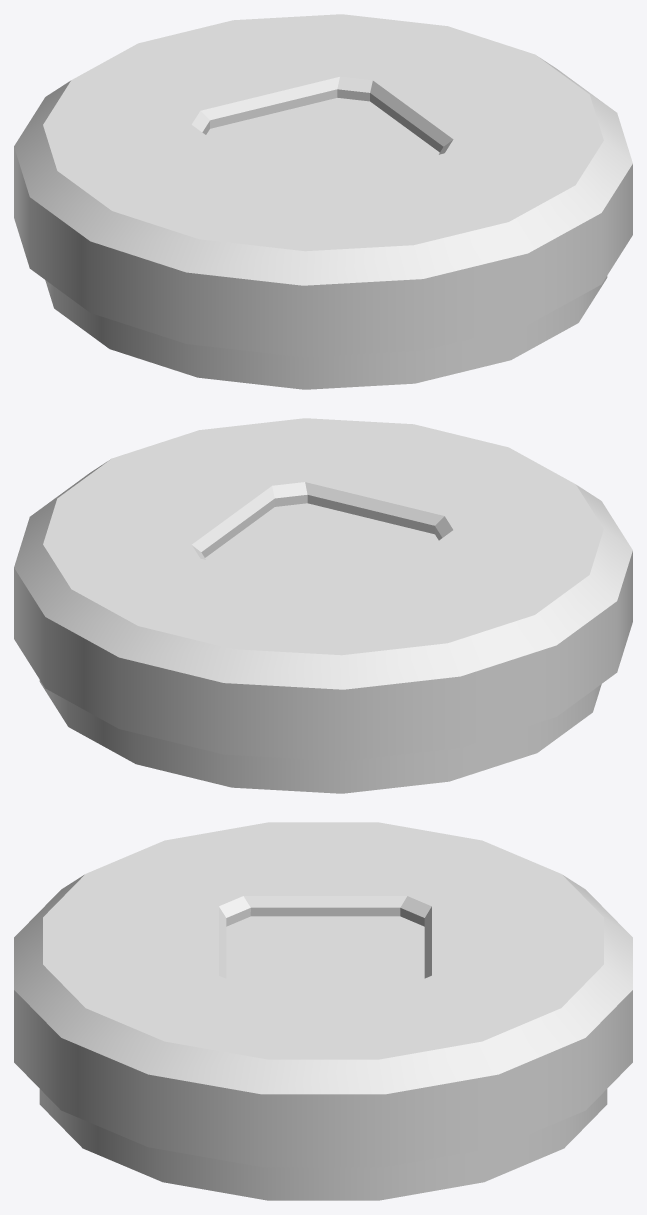
File: Cont_Barrel_Lid.fbx
3 views of the same model, one above another, from view 1: azimuth 30°, elevation 25°; view 2: azimuth 150°, elevation 25°; view 3: azimuth 270°, elevation 25° (orthographic).
Visible parts, largest first — view 1: Cont_Barrel_Lid; view 2: Cont_Barrel_Lid; view 3: Cont_Barrel_Lid.
Boxes of the visible parts, box(x1,y1,x2,y2) form: Cont_Barrel_Lid: box(14, 14, 632, 389); Cont_Barrel_Lid: box(14, 418, 632, 793); Cont_Barrel_Lid: box(14, 822, 632, 1200).
Bounding box in the file's own units: 1.07 × 0.2667 × 1.07.
